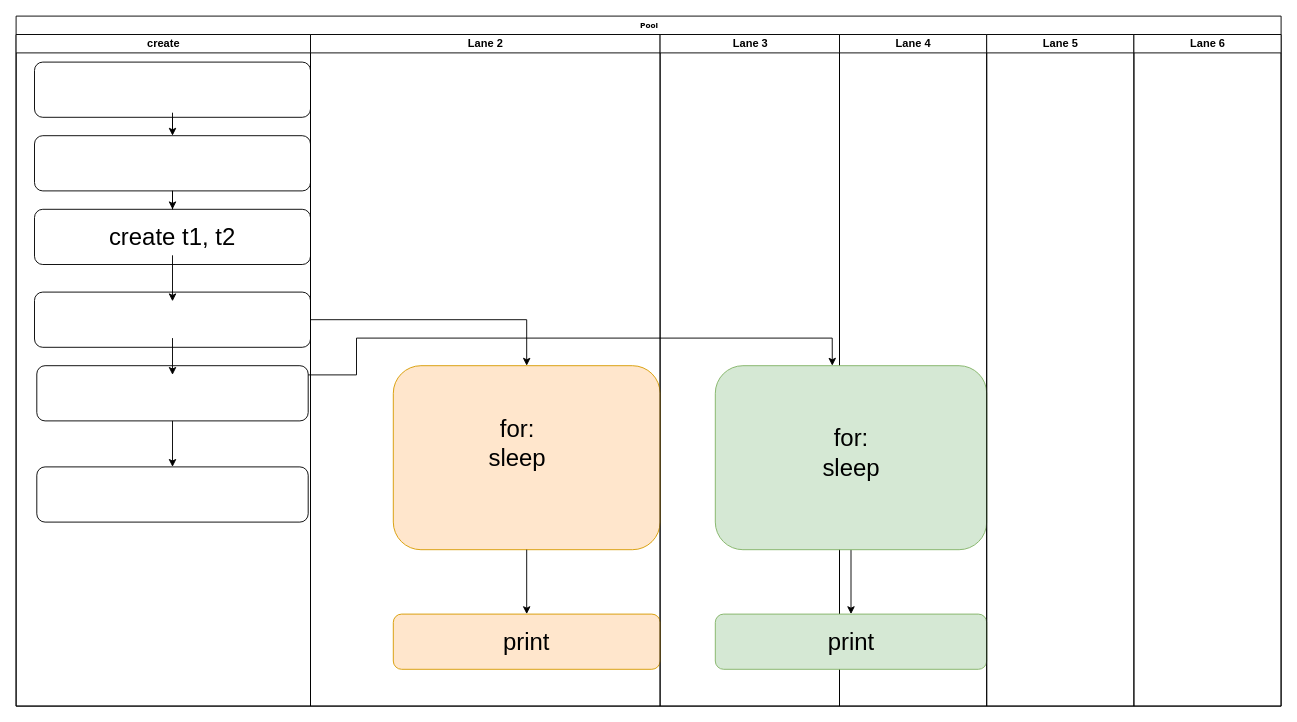
Some shapes in this 1297 by 722 pixel diagram are drawn without their labels. Here are the shapes that lost their labels. From the top down, the centre of each, then its label:
At pixel 172 89: "import ...".
At pixel 172 163: "def worker()".
At pixel 172 319: "start t1".
At pixel 172 393: "start t2".
At pixel 172 494: "print 'Main...'".
